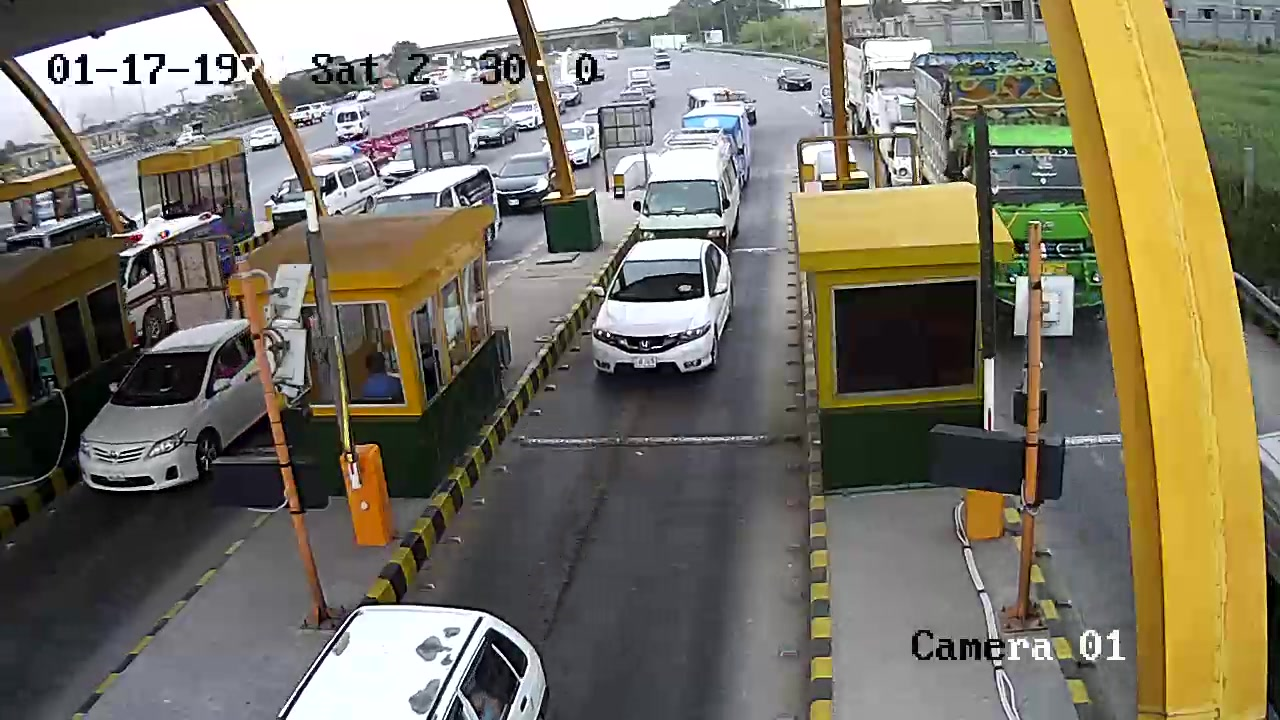F1: (588, 238, 738, 392)
